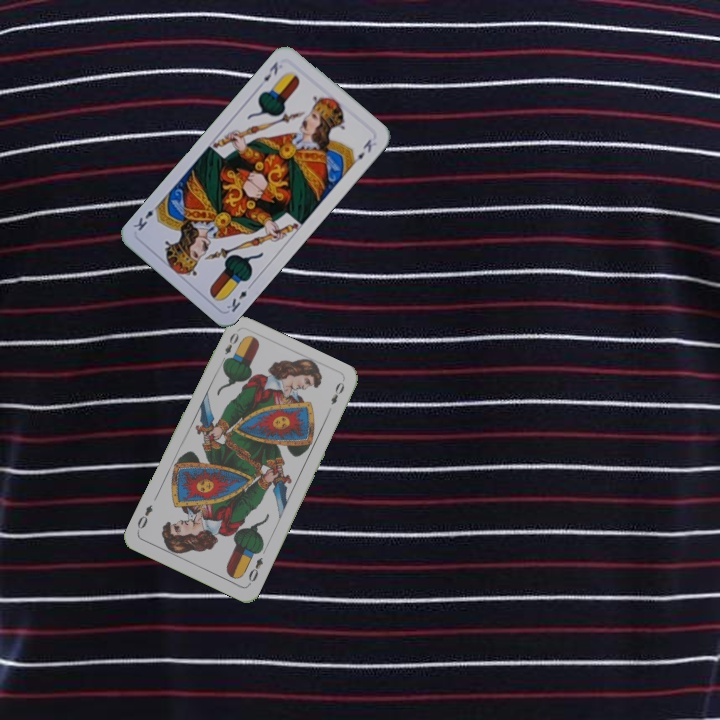EK: (222, 279, 255, 315), (259, 57, 281, 84)
EO: (217, 328, 241, 366), (244, 553, 265, 588)
